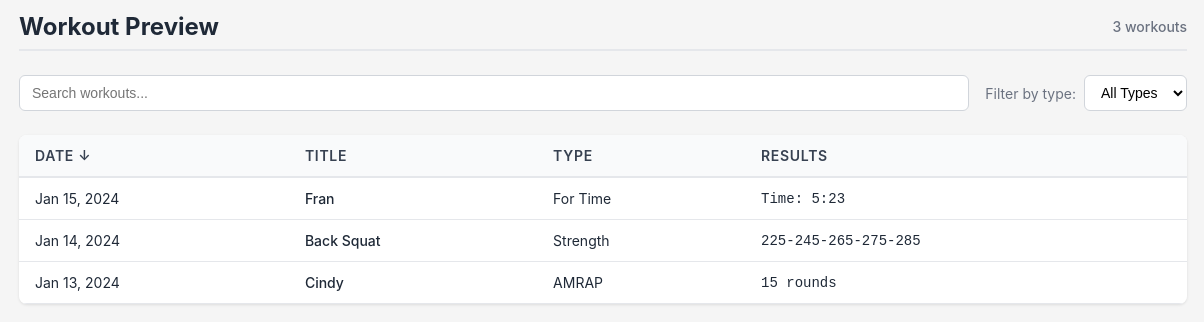
Test case: ExportPreview › Filtering › should show filtered workout count
This screenshot has width=1204, height=322.
In the field with placeholder "Search workouts...": (494, 93) [19,75,969,111], type "Squat"
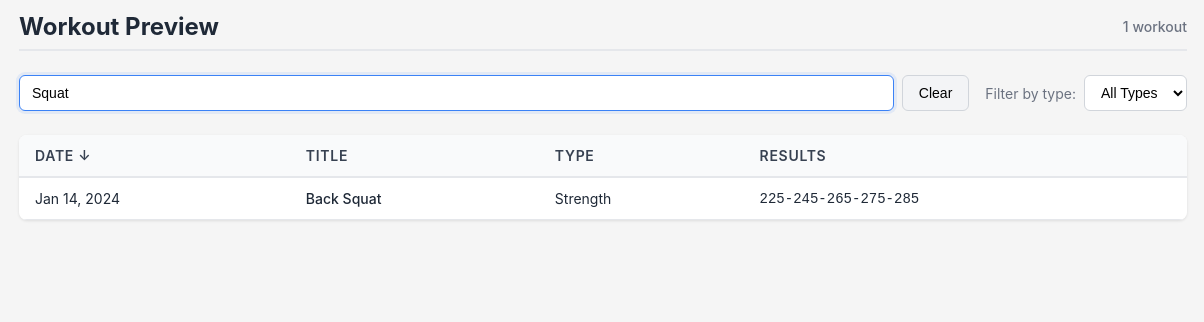
Check: the text "1 workout" is shown, box [1123,18,1187,35]
